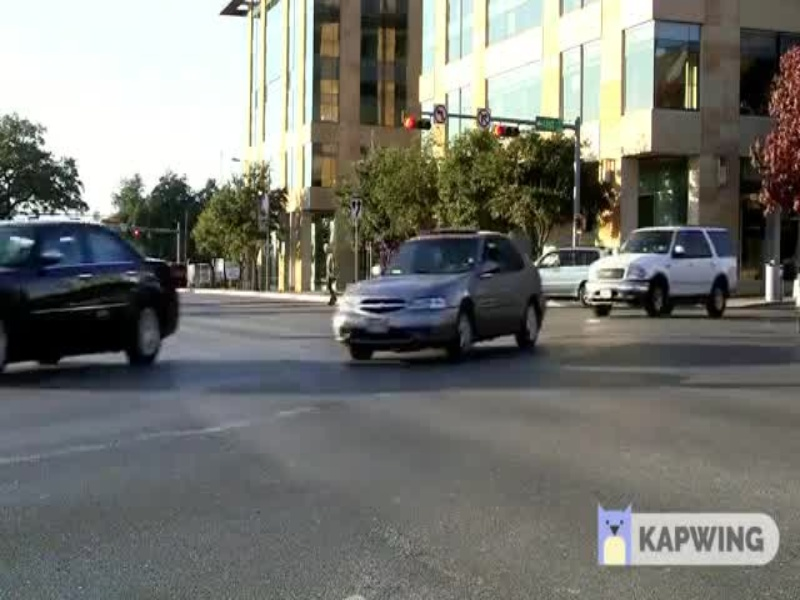car: (320, 226, 551, 369), (1, 218, 187, 376), (576, 221, 738, 319)
